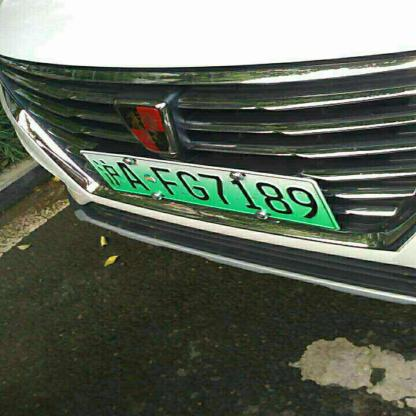lp: (80, 152, 336, 229)
